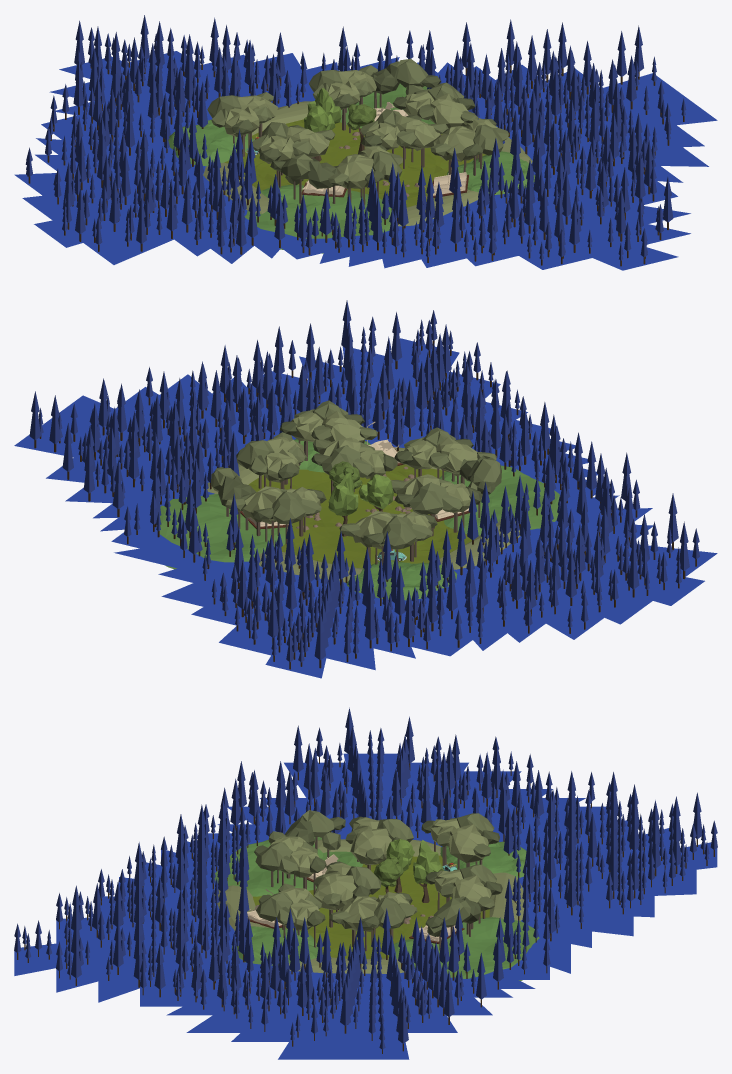
File: forest07_FlutterDreams.glb
3 views of the same model, one above another, from view 1: azimuth 30°, elevation 25°; view 2: azimuth 150°, elevation 25°; view 3: azimuth 270°, elevation 25° (orthographic). The views are drawn at different scales.
Parts seen in each view (by area): view 1: trees_blue, Synty_TreesGround, grass, Car_Books; view 2: trees_blue, Synty_TreesGround, grass, Car_Books; view 3: trees_blue, Synty_TreesGround, grass, Car_Books.
Part boxes in pixels (x1,y1,x2,y2): trees_blue: (14,51,717,270); Synty_TreesGround: (168,58,535,253); grass: (224,119,485,207); Car_Books: (246,102,468,197); trees_blue: (14,338,717,678); Synty_TreesGround: (159,400,559,600); grass: (249,464,471,568); Car_Books: (240,421,470,561); trees_blue: (14,753,717,1059); Synty_TreesGround: (214,810,539,980); grass: (245,855,489,962); Car_Books: (239,854,464,943).
Bounding box in the file's own units: 35.5 × 5.21 × 34.53.
Materials: 5 (2 with a texture image).
